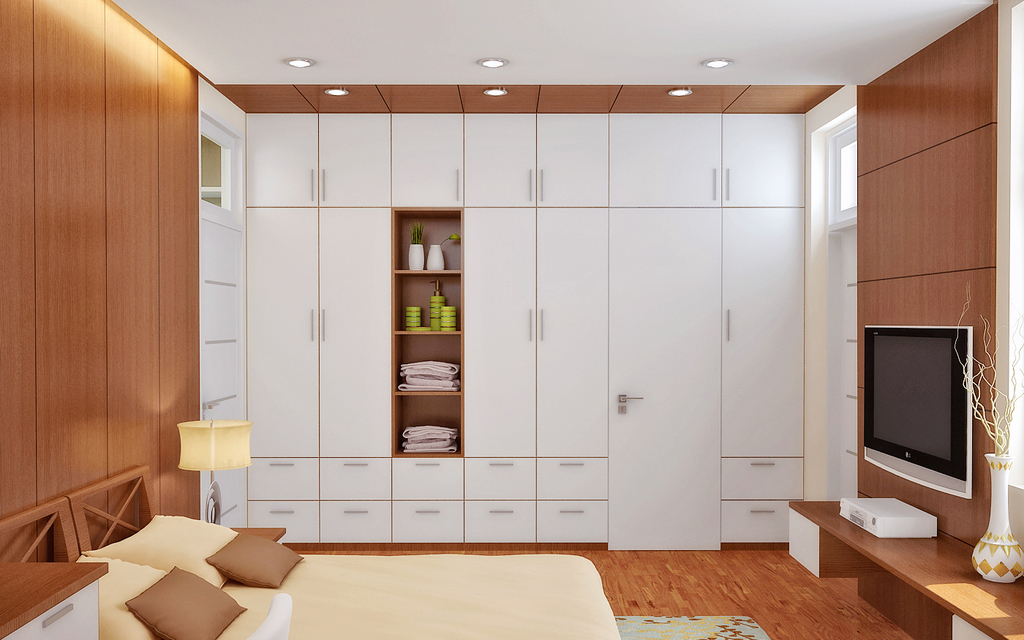Cabinetry: (170, 48, 864, 599)
